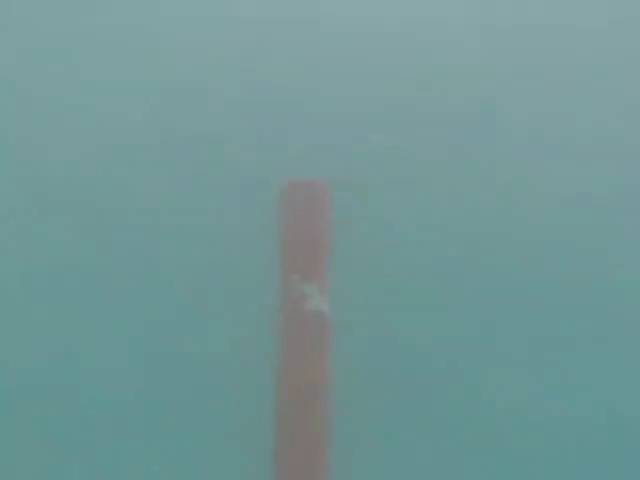flare: (258, 169, 346, 480)
